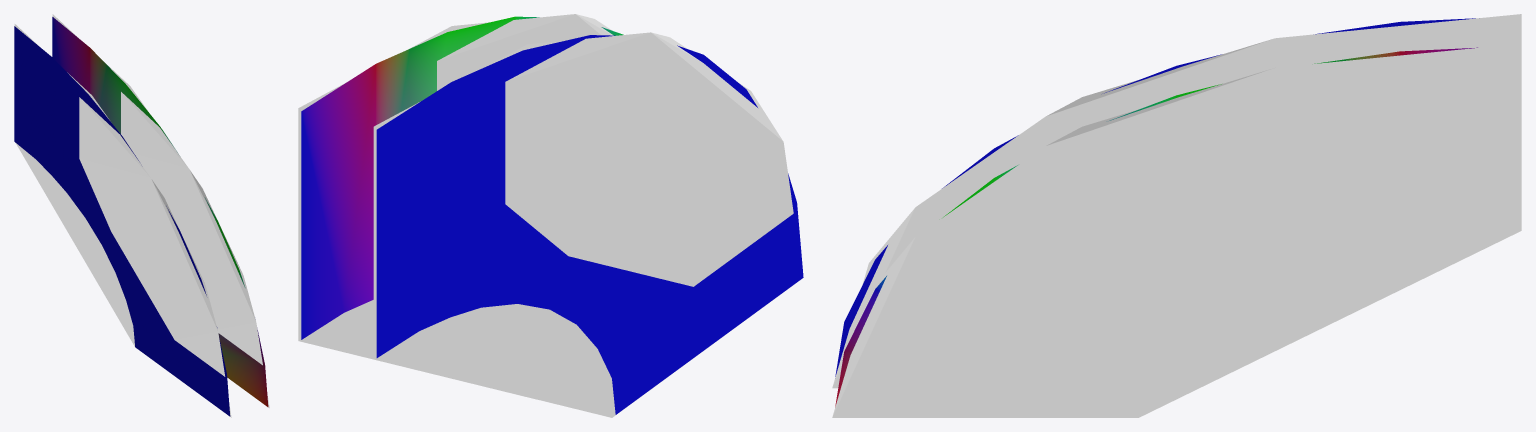
3 renders of one model, left to right at view 1: azimuth 30°, elevation 25°; view 2: azimuth 150°, elevation 25°; view 3: azimuth 270°, elevation 25°, orthographic. The views are drawn at different scales.
Parts seen in each view (by area): view 1: SM_Platform_Ceiling_Wall_01_ConvexHulls, SM_Platform_Ceiling_Wall_01_LOD0; view 2: SM_Platform_Ceiling_Wall_01_ConvexHulls, SM_Platform_Ceiling_Wall_01_LOD0; view 3: SM_Platform_Ceiling_Wall_01_ConvexHulls, SM_Platform_Ceiling_Wall_01_LOD0.
Part boxes in pixels (<box>): SM_Platform_Ceiling_Wall_01_ConvexHulls: <box>14,14,269,417</box>; SM_Platform_Ceiling_Wall_01_LOD0: <box>14,17,268,416</box>; SM_Platform_Ceiling_Wall_01_ConvexHulls: <box>298,14,802,417</box>; SM_Platform_Ceiling_Wall_01_LOD0: <box>301,16,803,414</box>; SM_Platform_Ceiling_Wall_01_ConvexHulls: <box>832,14,1521,417</box>; SM_Platform_Ceiling_Wall_01_LOD0: <box>835,18,1477,406</box>.
Size of the model in its own units: 52.44 by 493 by 296.
